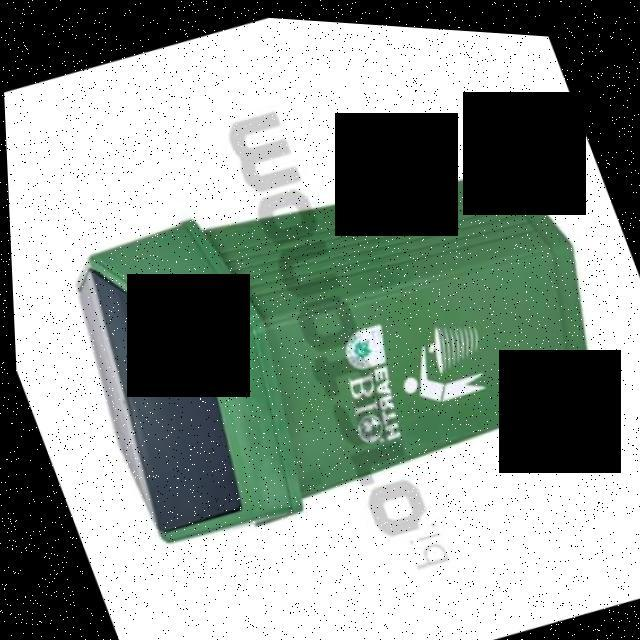bin: (29, 76, 640, 583)
